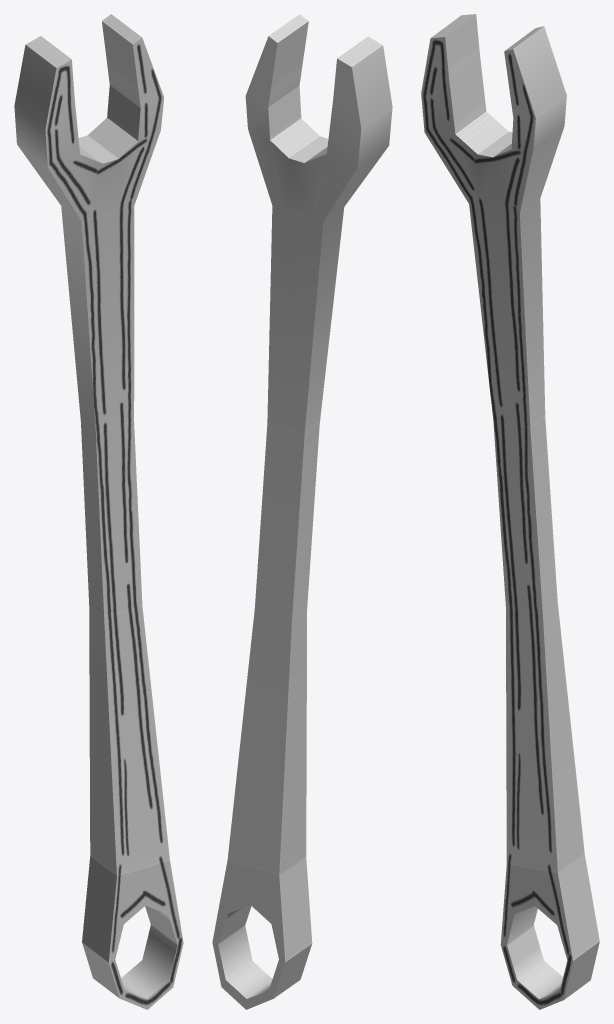
Rendered from Wrench3.FBX.
3 renders of one model, left to right at view 1: azimuth 30°, elevation 25°; view 2: azimuth 150°, elevation 25°; view 3: azimuth 330°, elevation 25°, orthographic.
Parts seen in each view (by area): view 1: Wrench3; view 2: Wrench3; view 3: Wrench3.
Part boxes in pixels (x1,y1,x2,y2): Wrench3: (14, 14, 183, 1009); Wrench3: (212, 14, 392, 1009); Wrench3: (421, 14, 599, 1009).
Size of the model in its own units: 1.6 by 10.28 by 0.7167.
1 material, 1 textured.
